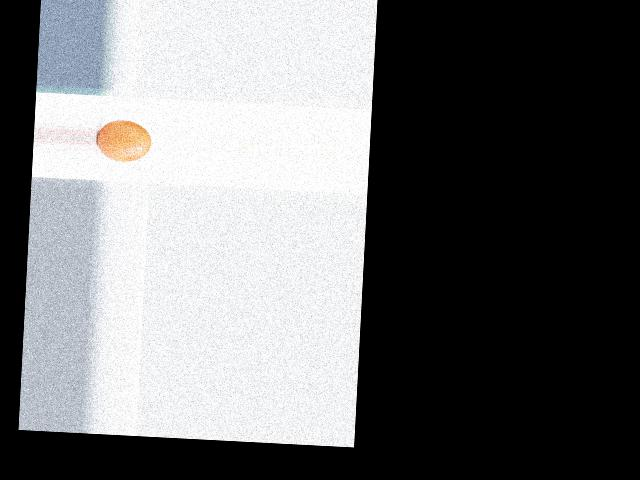egg: (96, 118, 151, 162)
